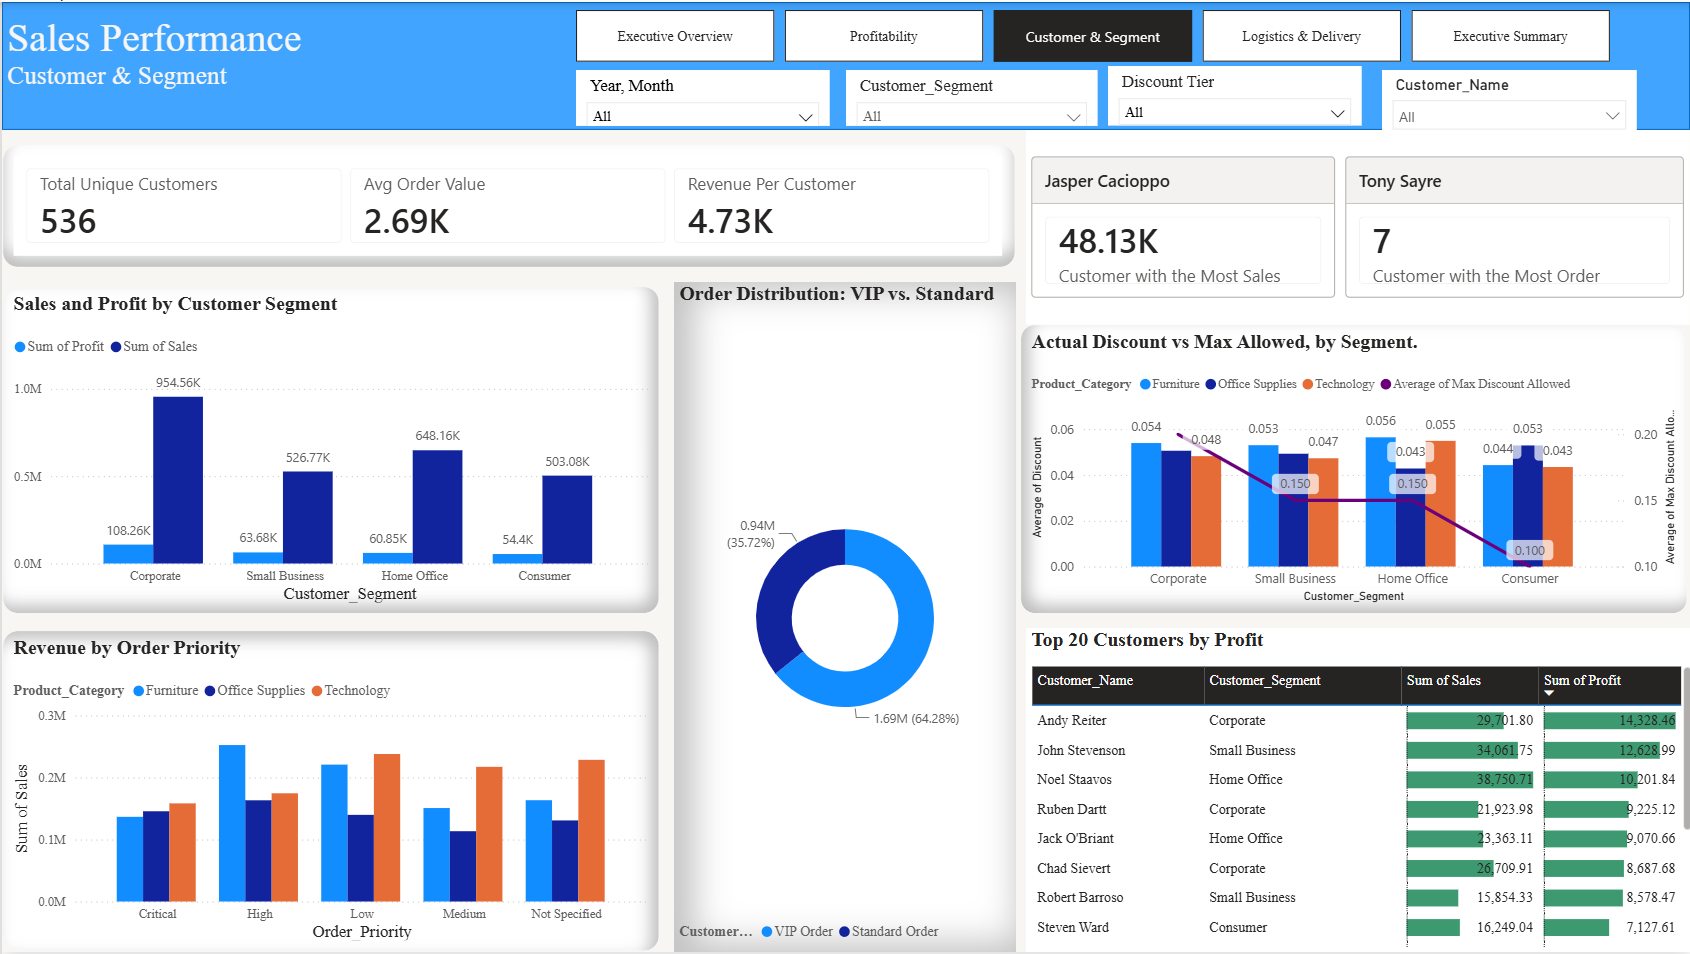

This screenshot's page, from the dashboard's own definition file:
{"tool":"powerbi","page":{"name":"Customer & Segment","canvas":[1600,900],"ordinal":2},"visuals":[{"type":"textbox","box":[106.2,26.5,439.8,64.5],"z":0},{"type":"cardVisual","fields":{"Data":["Working Sheet.Total Unique Customers","Working Sheet.Avg Order Value 1","Working Sheet.Revenue Per Customer"]},"box":[0,134.6,961.1,117.5],"z":1000},{"type":"clusteredColumnChart","title":"Sales and Profit by Customer Segment","fields":{"Category":["Working Sheet.Customer_Segment"],"Y":["Sum(Working Sheet.Profit)","Sum(Working Sheet.Sales)"]},"box":[0,269.2,623.7,310.9],"z":2000},{"type":"tableEx","title":"Top 20 Customers by Profit","fields":{"Values":["Working Sheet.Customer_Name","Working Sheet.Customer_Segment","Sum(Working Sheet.Sales)","Sum(Working Sheet.Profit)"]},"box":[970.4,594.1,636.7,307.7],"z":3000},{"type":"lineClusteredColumnComboChart","title":"Actual Discount vs Max Allowed, by Segment.","fields":{"Category":["Working Sheet.Customer_Segment"],"Series":["Working Sheet.Product_Category"],"Y":["Avg(Working Sheet.Discount)"],"Y2":["Avg(Working Sheet.Max Discount Allowed)"]},"box":[965.7,305.3,633.2,274.9],"z":4000},{"type":"clusteredColumnChart","title":"Revenue by Order Priority","fields":{"Category":["Working Sheet.Order_Priority"],"Series":["Working Sheet.Product_Category"],"Y":["Sum(Working Sheet.Sales)"]},"box":[0,595.3,623.7,305.2],"z":5000},{"type":"shape","box":[0,0,1600,121.3],"z":6000},{"type":"textbox","box":[0,7.1,480.5,108.9],"z":7000},{"type":"pageNavigator","box":[543.8,7.8,982,49.3],"z":8000},{"type":"slicer","fields":{"Values":["Working Sheet.Order_Date.Variation.Date Hierarchy.Year"]},"box":[544.4,63.9,240.6,52.8],"z":9000},{"type":"slicer","fields":{"Values":["Working Sheet.Customer_Segment"]},"box":[800,63.9,238.6,52.8],"z":10000},{"type":"donutChart","title":"Order Distribution: VIP vs. Standard","fields":{"Category":["Working Sheet.Customer Value"],"Y":["Sum(Working Sheet.Sales)"]},"box":[637.2,266.2,324.4,633.8],"z":11000},{"type":"cardVisual","fields":{"Data":["Sum(Working Sheet.Sales)"],"Rows":["Working Sheet.Customer_Name"]},"box":[970.4,120.7,298.2,184.6],"z":12000},{"type":"slicer","fields":{"Values":["Working Sheet.Discount Tier "]},"box":[1048.5,61.5,240.6,56.7],"z":13000},{"type":"slicer","fields":{"Values":["Working Sheet.Customer_Name"]},"box":[1308.9,63.9,241.4,56.8],"z":14000},{"type":"cardVisual","fields":{"Data":["Count(Working Sheet.Order_ID)"],"Rows":["Working Sheet.Customer_Name"]},"box":[1268.6,120.7,331.4,184.6],"z":15000}]}

Visuals, with their boxes in screenshot pixels (x1, y1, x2, y2), scaled from the page's 1600x900 canvas onto the 1690x954 screenshot:
textbox: <bbox>112, 28, 577, 96</bbox>
cardVisual - Working Sheet.Total Unique Customers x Working Sheet.Avg Order Value 1: <bbox>0, 143, 1015, 267</bbox>
"Sales and Profit by Customer Segment" clusteredColumnChart: <bbox>0, 285, 659, 615</bbox>
"Top 20 Customers by Profit" tableEx: <bbox>1025, 630, 1689, 953</bbox>
"Actual Discount vs Max Allowed, by Segment." lineClusteredColumnComboChart: <bbox>1020, 324, 1689, 615</bbox>
"Revenue by Order Priority" clusteredColumnChart: <bbox>0, 631, 659, 953</bbox>
shape: <bbox>0, 0, 1689, 129</bbox>
textbox: <bbox>0, 8, 508, 123</bbox>
pageNavigator: <bbox>574, 8, 1612, 61</bbox>
slicer - Working Sheet.Order_Date.Variation.Date Hierarchy.Year: <bbox>575, 68, 829, 124</bbox>
slicer - Working Sheet.Customer_Segment: <bbox>845, 68, 1097, 124</bbox>
"Order Distribution: VIP vs. Standard" donutChart: <bbox>673, 282, 1016, 953</bbox>
cardVisual - Sum(Working Sheet.Sales) x Working Sheet.Customer_Name: <bbox>1025, 128, 1340, 324</bbox>
slicer - Working Sheet.Discount Tier : <bbox>1107, 65, 1362, 125</bbox>
slicer - Working Sheet.Customer_Name: <bbox>1383, 68, 1638, 128</bbox>
cardVisual - Count(Working Sheet.Order_ID) x Working Sheet.Customer_Name: <bbox>1340, 128, 1689, 324</bbox>
